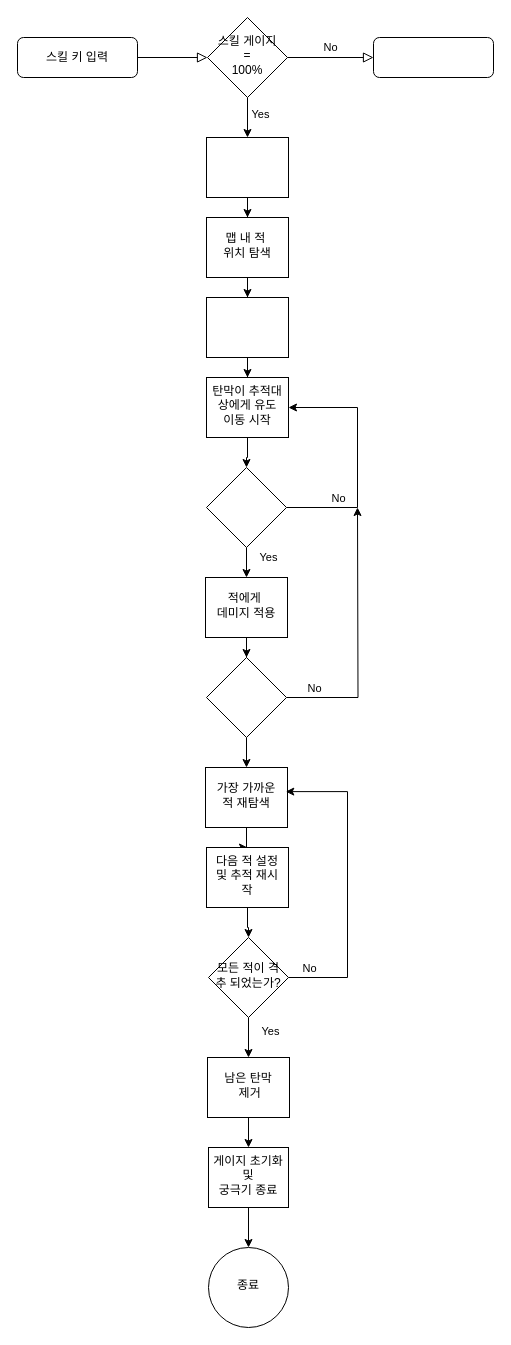
This 511x1345 diagram has some shape labels left out. Here are the shapes that lost their labels. From the top down, the centre of each, then its label:
the point at 433,57: 발동 안됨
the point at 247,167: 캐릭터 중심으로 추격 탄막 생성
the point at 247,327: 가장 가까운 적을 추격 대상으로 설정
the point at 246,507: 탄막이 적과 충돌했는가?
the point at 246,697: 해당 적이 사망했는가?
